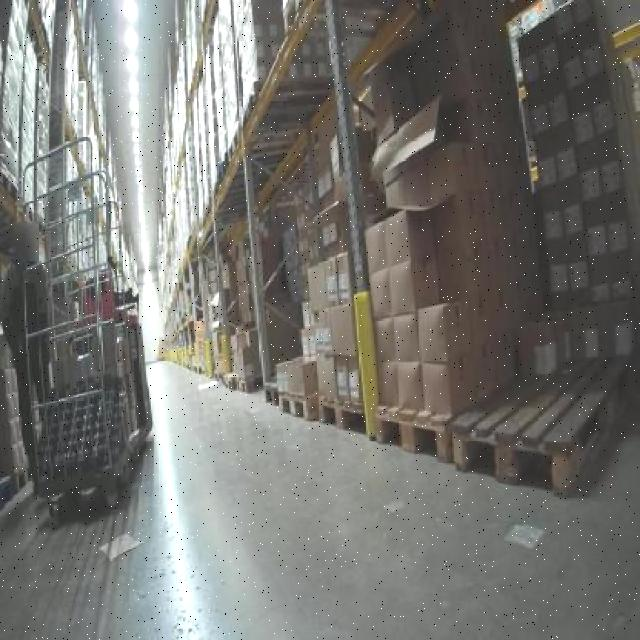pallet: (448, 341, 640, 489), (372, 391, 472, 456), (312, 391, 386, 436), (280, 386, 324, 418)
